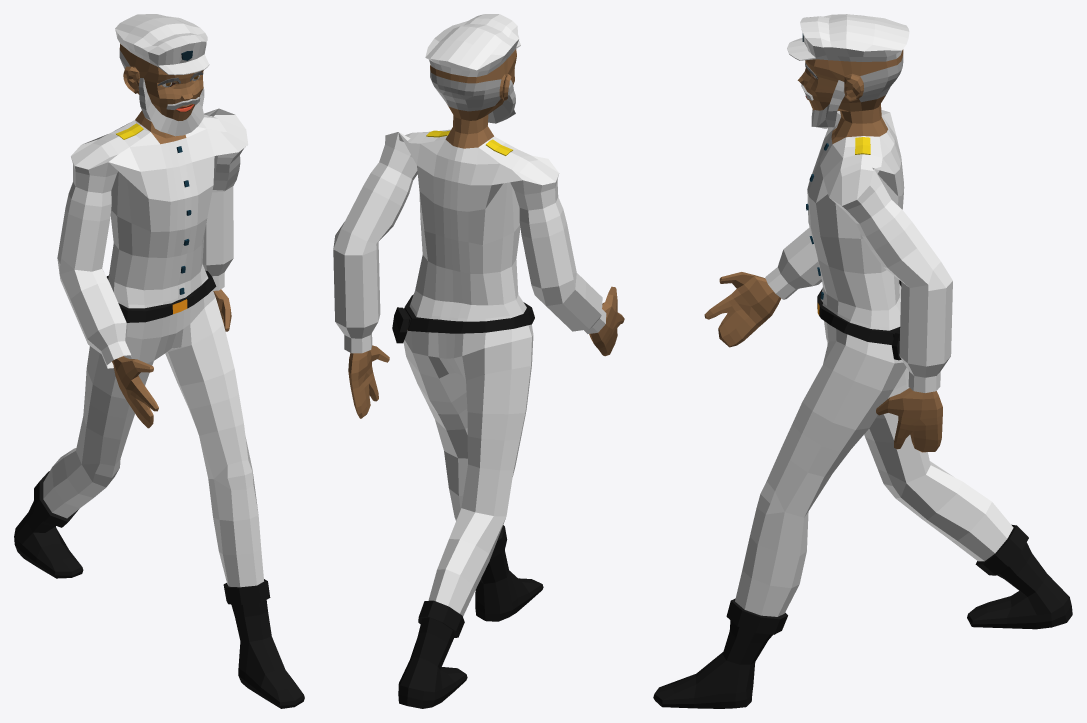
File: TrafficPolice_Walk.fbx
3 views of the same model, side by side, from view 1: azimuth 30°, elevation 25°; view 2: azimuth 150°, elevation 25°; view 3: azimuth 270°, elevation 25° (orthographic). The views are drawn at different scales.
Parts seen in each view (by area): view 1: TrafficPolice_Walk; view 2: TrafficPolice_Walk; view 3: TrafficPolice_Walk.
Boxes of the visible parts, box(x1,y1,x2,y2) form: TrafficPolice_Walk: box(14, 14, 304, 708); TrafficPolice_Walk: box(333, 14, 624, 708); TrafficPolice_Walk: box(653, 14, 1072, 708).
Size of the model in its own units: 0.324 by 0.9539 by 0.5472.
